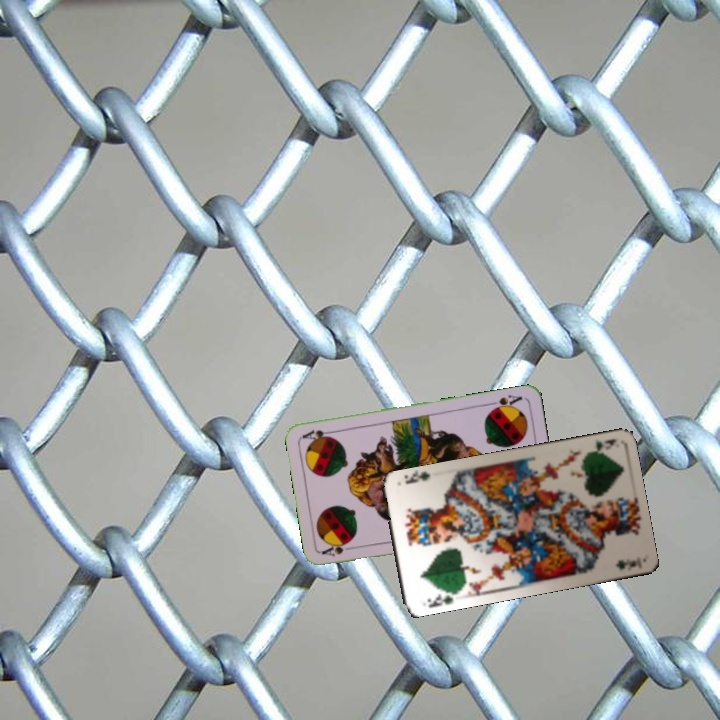GK: (581, 434, 619, 458), (423, 587, 456, 610)
SA: (485, 391, 525, 414), (318, 539, 351, 559)
